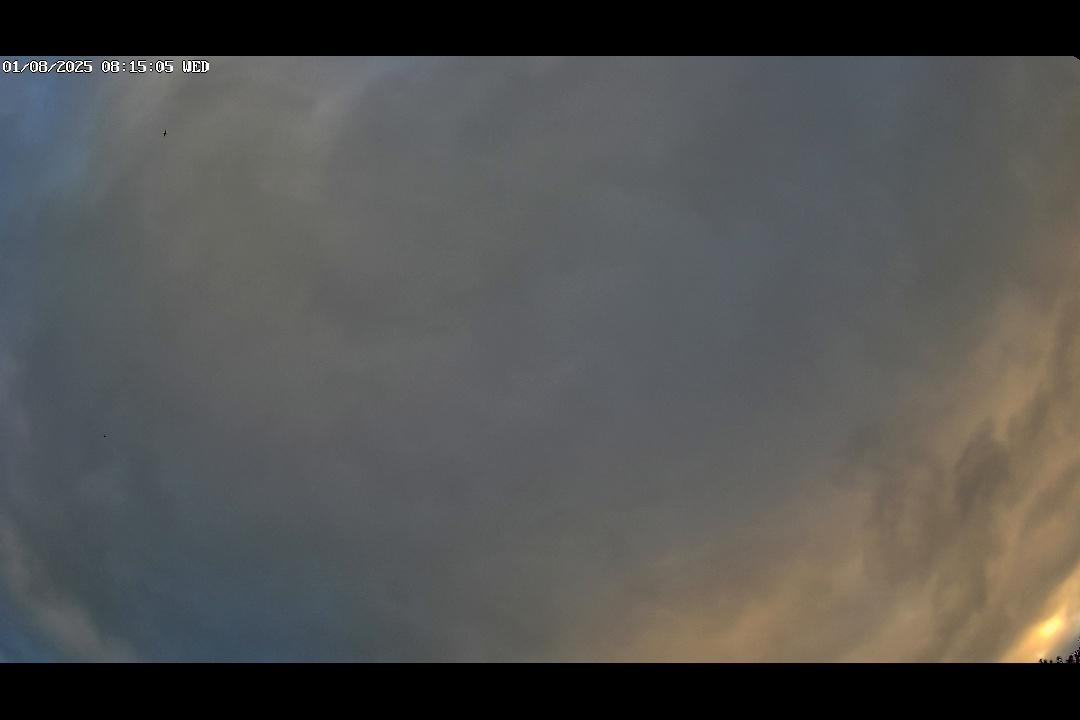WildLife: (161, 126, 170, 141)
